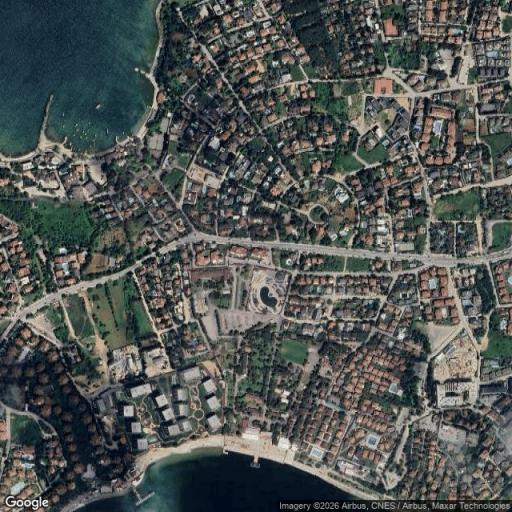ship: (91, 102, 102, 112), (102, 124, 110, 137), (85, 119, 93, 127), (73, 120, 79, 128), (59, 123, 66, 129), (60, 110, 65, 118), (64, 135, 68, 145), (93, 133, 98, 139), (86, 128, 91, 133), (80, 128, 84, 134), (91, 138, 97, 142), (84, 148, 88, 154), (122, 131, 125, 138), (68, 142, 73, 146), (84, 130, 88, 135), (72, 133, 76, 137), (85, 135, 88, 140), (74, 129, 81, 131), (80, 134, 82, 140)
